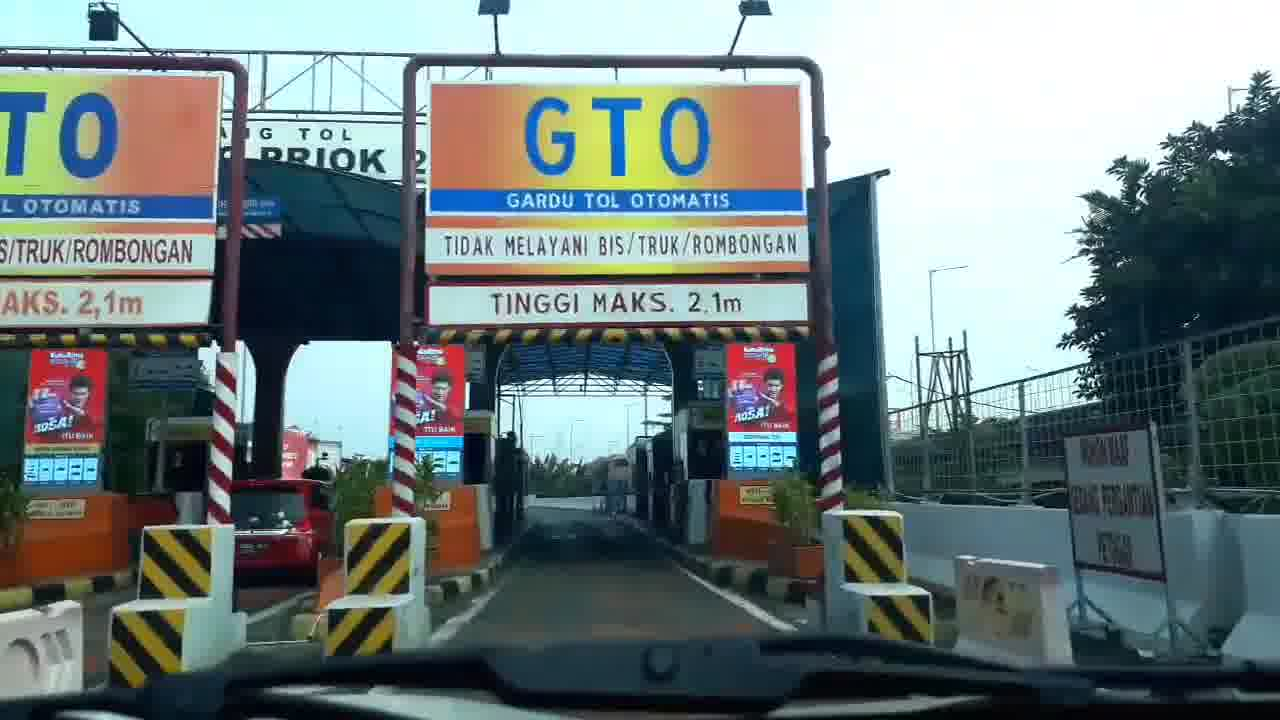plate_positive: (236, 541, 273, 559)
